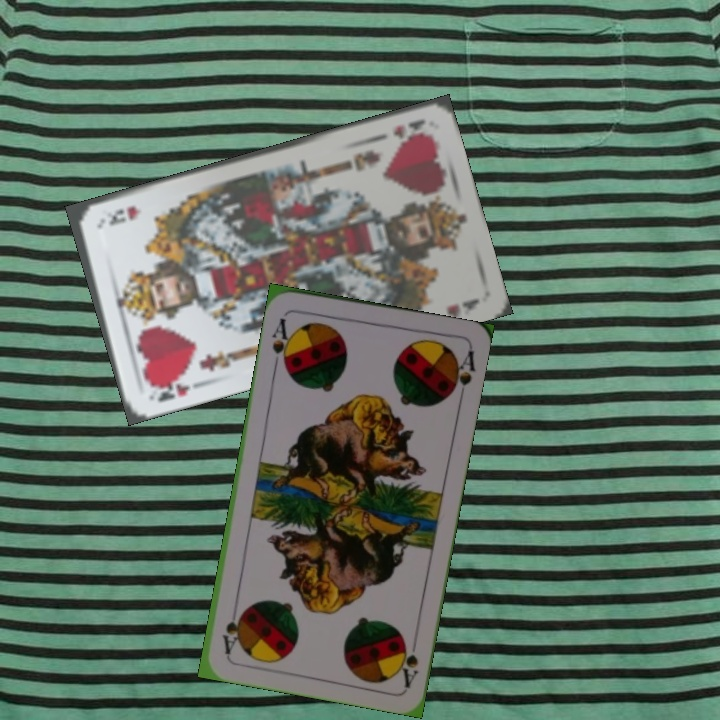HK: (146, 374, 204, 405), (372, 115, 429, 142)
SA: (394, 630, 421, 689), (268, 314, 295, 371)
